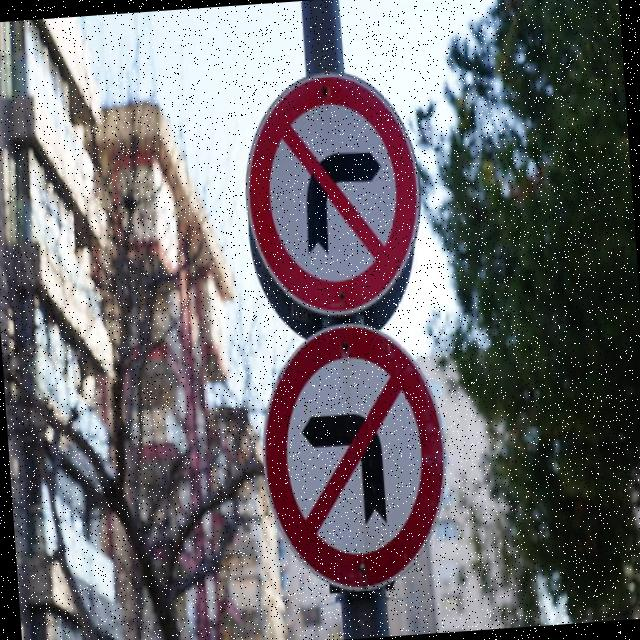do_not_turn_right: (247, 312, 462, 610)
